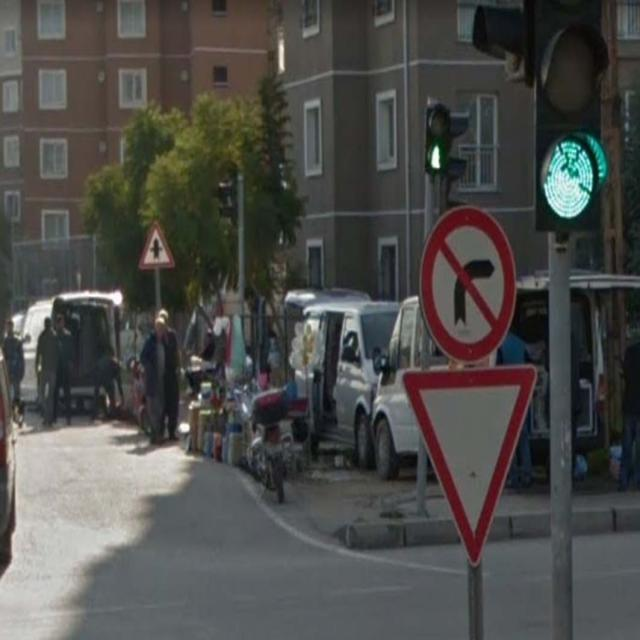sagadonulmez: (416, 203, 517, 364)
